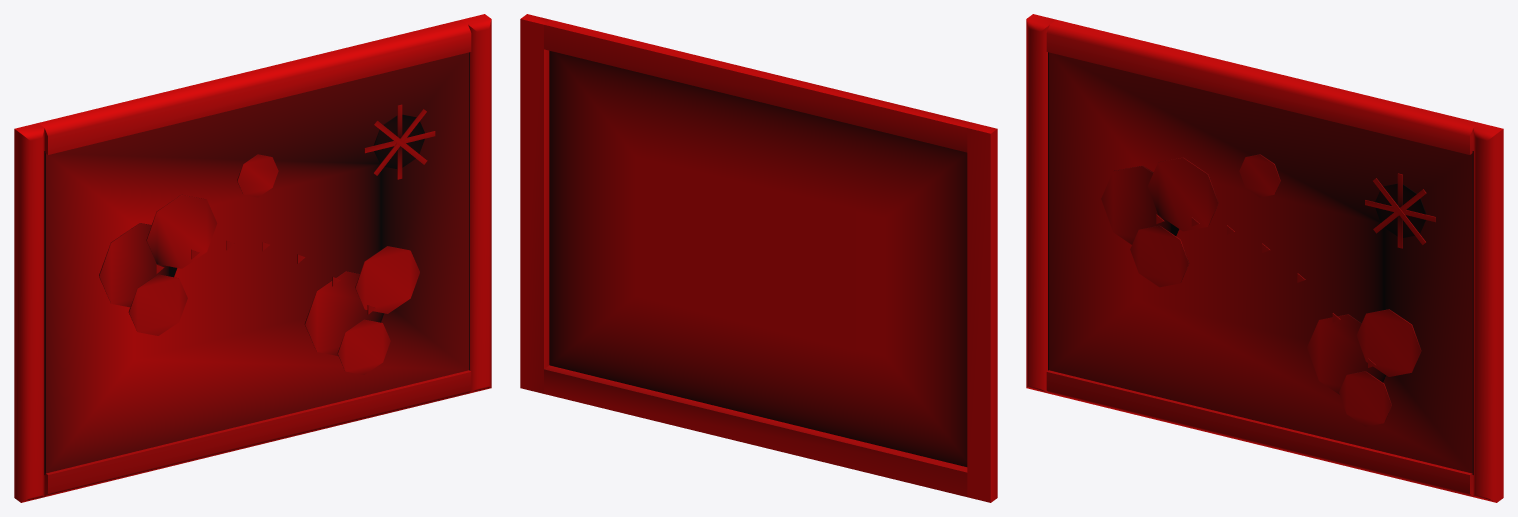
File: CI_Office_Map_Framed.glb
The picture shows the model from 3 angles, left to right: view 1: azimuth 30°, elevation 25°; view 2: azimuth 150°, elevation 25°; view 3: azimuth 330°, elevation 25°; orthographic projection.
Parts seen in each view (by area): view 1: CI_Office_Map_Framed; view 2: CI_Office_Map_Framed; view 3: CI_Office_Map_Framed.
Part boxes in pixels (x1,y1,x2,y2): CI_Office_Map_Framed: (14, 14, 491, 502); CI_Office_Map_Framed: (520, 14, 997, 502); CI_Office_Map_Framed: (1026, 14, 1503, 502).
Bounding box in the file's own units: 0.8 × 0.6 × 0.0301.
